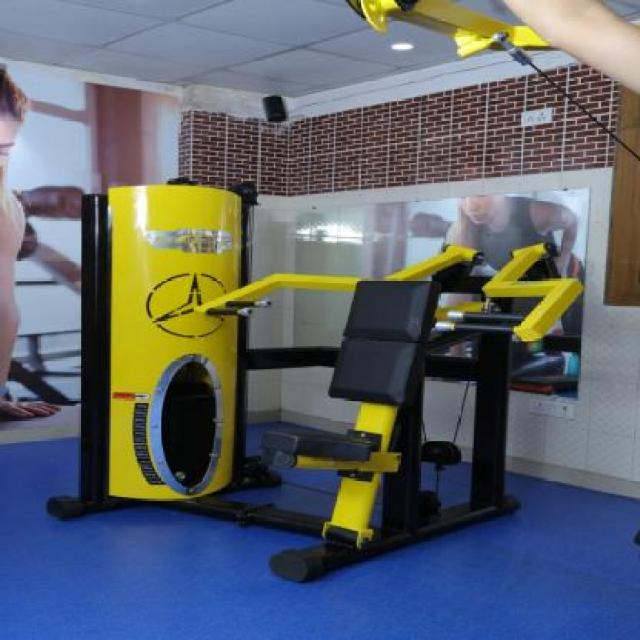shoulder press machine: (51, 168, 589, 595)
